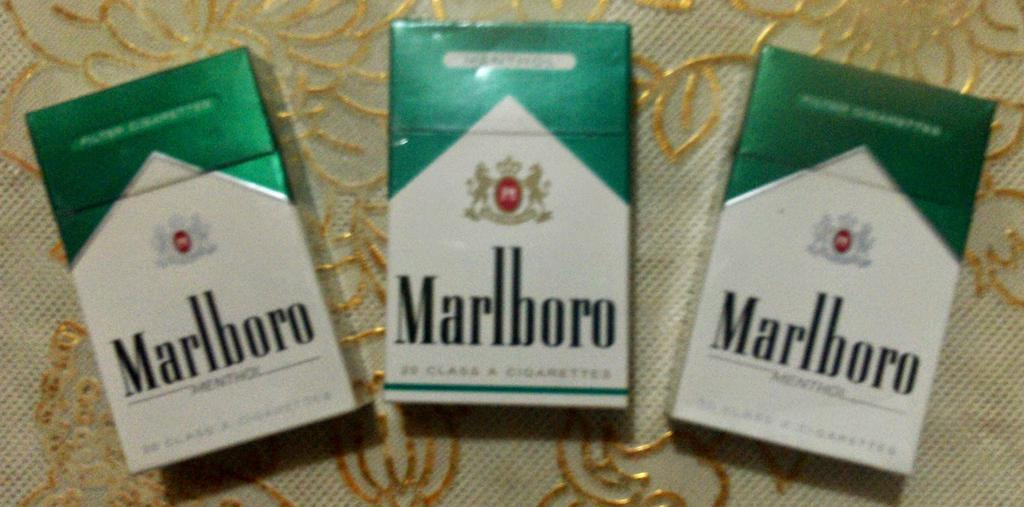marlboro_mentol: (384, 28, 631, 406), (708, 71, 950, 430), (79, 56, 312, 428)
